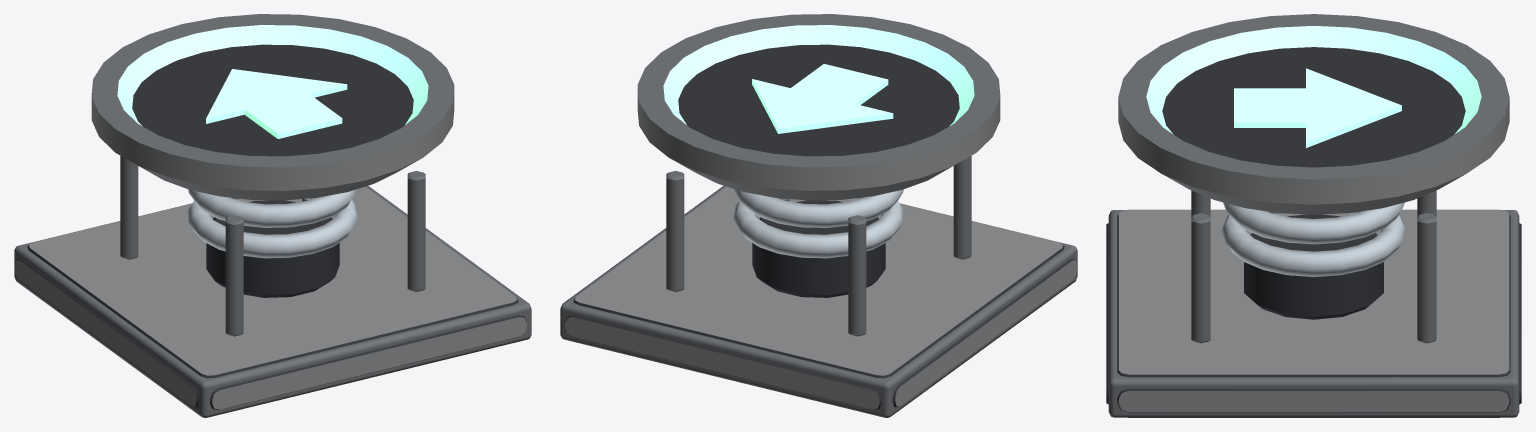
Rendered from R4X_JumpPadDeployer.glb.
The picture shows the model from 3 angles, left to right: view 1: azimuth 30°, elevation 25°; view 2: azimuth 150°, elevation 25°; view 3: azimuth 270°, elevation 25°; orthographic projection. The views are drawn at different scales.
Visible parts, largest first — view 1: R4X_JumpPadDeployer_Body, R4X_JumpPadDeployer_Pad; view 2: R4X_JumpPadDeployer_Body, R4X_JumpPadDeployer_Pad; view 3: R4X_JumpPadDeployer_Body, R4X_JumpPadDeployer_Pad.
Boxes of the visible parts, left/top/right/bottom form: R4X_JumpPadDeployer_Body: left=14, top=156, right=531, bottom=417; R4X_JumpPadDeployer_Pad: left=91, top=14, right=454, bottom=200; R4X_JumpPadDeployer_Body: left=560, top=156, right=1077, bottom=417; R4X_JumpPadDeployer_Pad: left=637, top=14, right=1000, bottom=200; R4X_JumpPadDeployer_Body: left=1106, top=190, right=1521, bottom=417; R4X_JumpPadDeployer_Pad: left=1118, top=14, right=1509, bottom=214.
Bounding box in the file's own units: 0.52 × 0.33 × 0.52.
